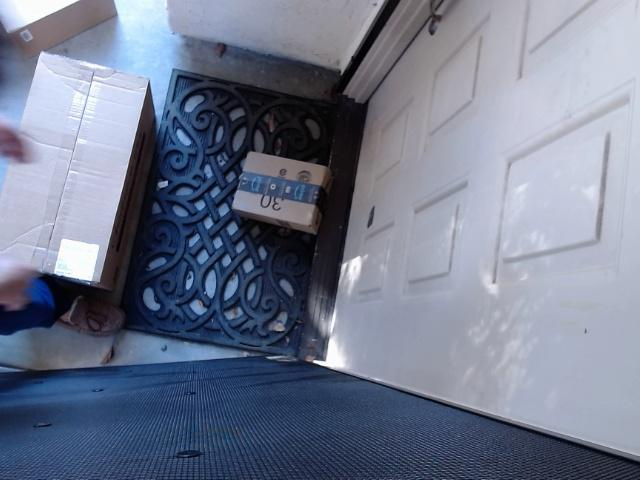box: (0, 50, 162, 325), (203, 132, 341, 270), (0, 0, 142, 66)
